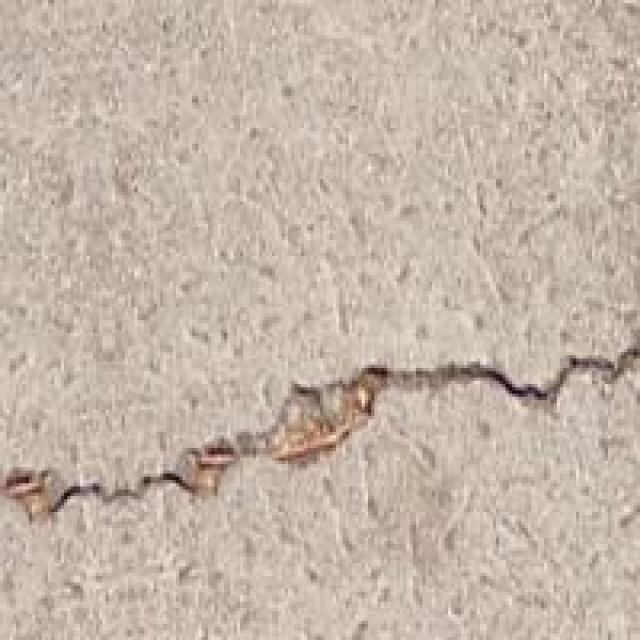crack: (0, 284, 637, 618)
